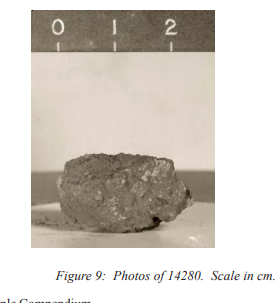Breccia: (51, 133, 178, 235)
